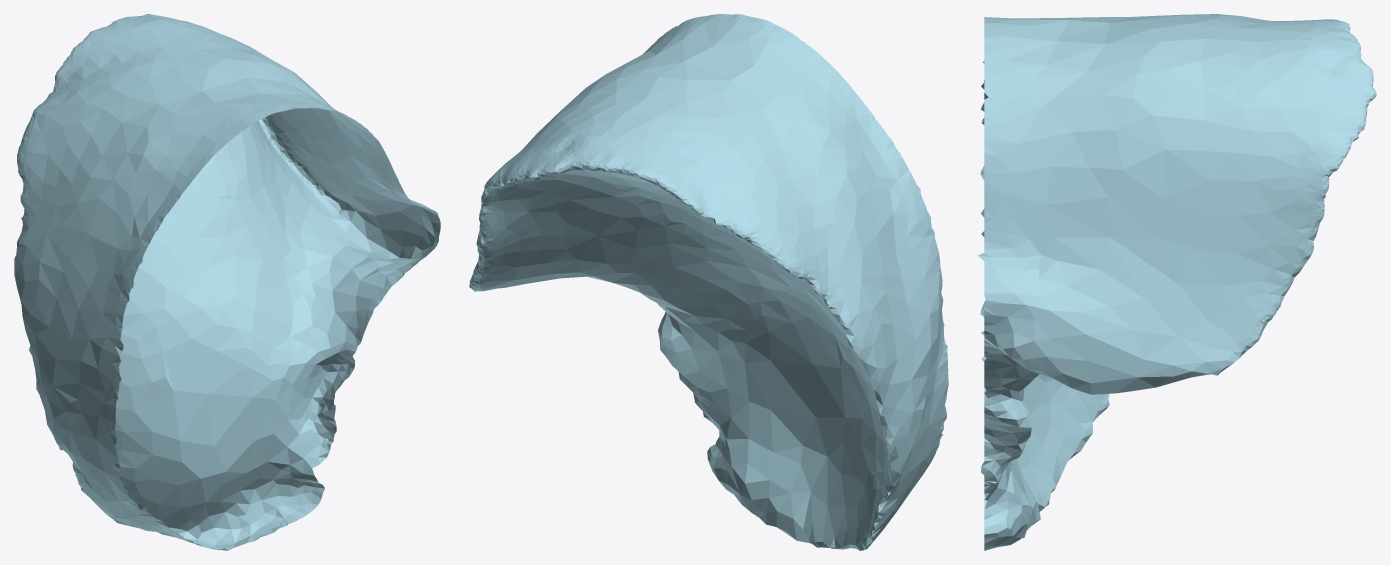
File: rightlung.obj
3 renders of one model, left to right at view 1: azimuth 30°, elevation 25°; view 2: azimuth 150°, elevation 25°; view 3: azimuth 270°, elevation 25°, orthographic. The views are drawn at different scales.
Parts seen in each view (by area): view 1: grp1; view 2: grp1; view 3: grp1.
Part boxes in pixels (x1,y1,x2,y2): grp1: (14,14,440,550); grp1: (469,14,948,550); grp1: (977,14,1376,550).
Bounding box in the file's own units: 148 × 174 × 119.
